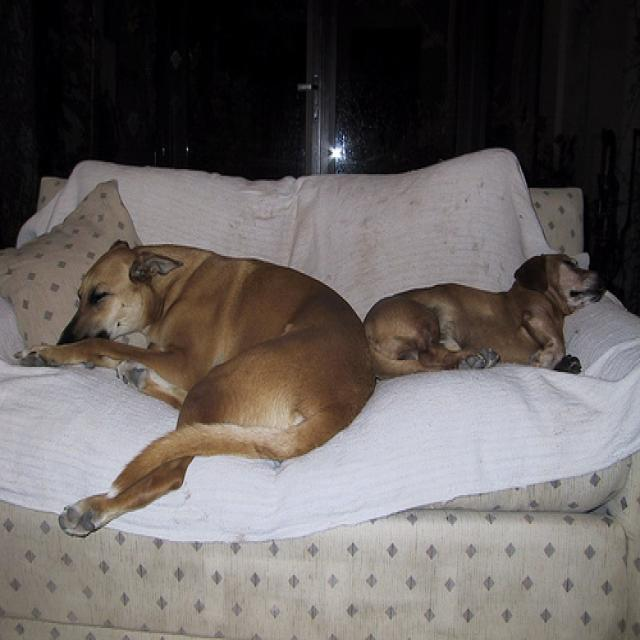dog: (17, 242, 379, 540), (363, 252, 608, 375)
sofa: (1, 157, 640, 640)
